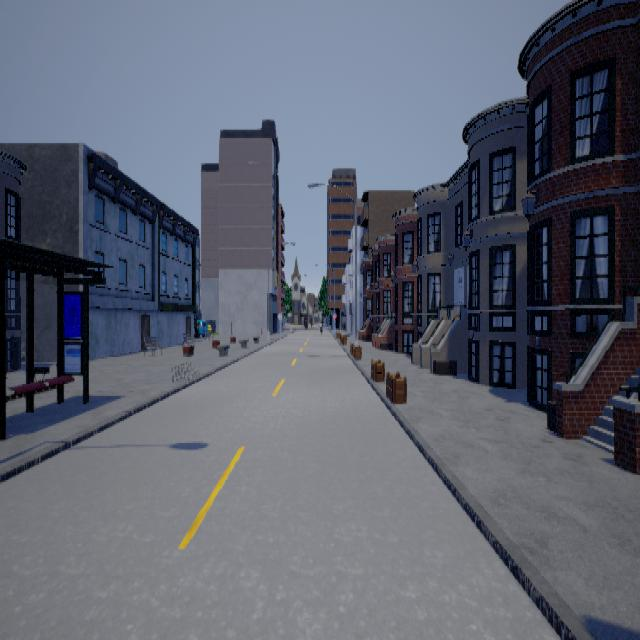traffic_sign: (332, 312, 336, 318)
